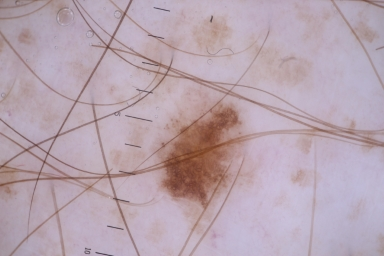melanoma: (162, 105, 237, 209)
